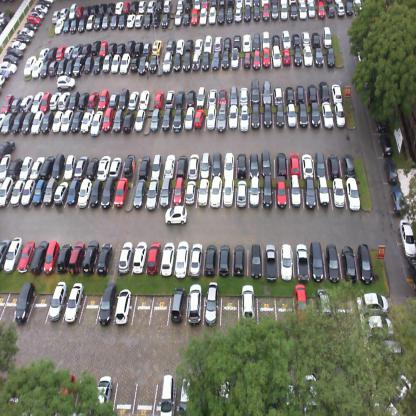car: (386, 372, 410, 416), (13, 282, 36, 322), (64, 281, 85, 323), (97, 282, 117, 326), (48, 281, 68, 322), (373, 340, 403, 367), (3, 235, 24, 273), (302, 372, 320, 416), (365, 314, 394, 341), (56, 374, 76, 413), (95, 373, 113, 415), (356, 242, 373, 285), (361, 290, 388, 317), (204, 280, 219, 327), (178, 378, 196, 416), (30, 238, 48, 275), (400, 217, 416, 258), (114, 285, 130, 326), (82, 239, 100, 275), (42, 238, 60, 274), (17, 239, 36, 273), (309, 240, 324, 283), (160, 375, 176, 415), (188, 282, 202, 326), (240, 283, 255, 324), (174, 241, 190, 279), (160, 240, 176, 278), (315, 287, 332, 322), (170, 287, 186, 324), (326, 242, 340, 283), (68, 242, 85, 275), (346, 176, 362, 211), (294, 283, 308, 323), (342, 244, 356, 284), (295, 242, 309, 282), (131, 240, 147, 275), (146, 242, 162, 276), (96, 243, 112, 277), (117, 242, 133, 275), (100, 177, 116, 210), (56, 243, 73, 274), (215, 380, 230, 415), (382, 156, 399, 186), (0, 174, 15, 208), (132, 179, 148, 210), (113, 176, 128, 209), (265, 244, 278, 282), (189, 242, 203, 277), (279, 243, 292, 280), (390, 183, 406, 213), (164, 206, 188, 226), (77, 178, 93, 208), (43, 176, 59, 206), (209, 175, 223, 209), (250, 242, 263, 278), (203, 244, 217, 276), (10, 178, 26, 206), (19, 152, 34, 181), (332, 177, 346, 208), (145, 180, 159, 211), (218, 244, 231, 277), (53, 180, 70, 205), (159, 176, 173, 206), (89, 178, 103, 208), (32, 177, 47, 205), (90, 107, 104, 137), (96, 154, 112, 180), (290, 175, 302, 209), (275, 174, 287, 208), (233, 243, 245, 277), (341, 151, 356, 178), (29, 154, 44, 181), (378, 133, 394, 158), (39, 155, 55, 180), (285, 382, 297, 415), (51, 152, 65, 180), (172, 176, 185, 206), (73, 154, 88, 180), (66, 179, 81, 205), (21, 180, 36, 206), (30, 109, 45, 135), (304, 177, 316, 209), (81, 106, 95, 133), (321, 101, 334, 130), (0, 237, 11, 271), (317, 178, 330, 206), (187, 152, 200, 180), (172, 104, 184, 134), (56, 73, 76, 91), (70, 109, 84, 134), (1, 111, 15, 136), (260, 148, 272, 177), (223, 150, 235, 179), (61, 107, 73, 136), (0, 137, 15, 160), (0, 152, 11, 183), (314, 150, 327, 176), (102, 106, 115, 132), (302, 151, 314, 179), (276, 151, 288, 179), (124, 150, 136, 178), (107, 156, 123, 177), (205, 104, 217, 132), (40, 110, 54, 134), (249, 178, 260, 208), (223, 177, 234, 207), (198, 178, 209, 208), (163, 154, 176, 179), (23, 53, 36, 78), (236, 181, 248, 208), (63, 153, 75, 180), (20, 111, 34, 134), (30, 90, 45, 111), (327, 152, 339, 178), (288, 151, 300, 177), (151, 152, 163, 178), (138, 154, 150, 180), (12, 110, 25, 134), (334, 101, 345, 129), (48, 89, 62, 111), (39, 90, 53, 112), (263, 175, 272, 209), (9, 157, 23, 178), (122, 112, 136, 133), (134, 108, 146, 132), (175, 156, 188, 178), (309, 102, 320, 128), (184, 105, 195, 131), (150, 108, 161, 134), (87, 88, 100, 110), (262, 78, 272, 106), (250, 76, 260, 104), (193, 107, 205, 130), (161, 107, 173, 130), (117, 86, 129, 109), (1, 92, 13, 115), (113, 107, 124, 132), (87, 157, 100, 178), (200, 151, 210, 178), (52, 109, 63, 133), (210, 50, 222, 72), (249, 152, 259, 178), (237, 152, 247, 178), (212, 152, 222, 178), (186, 179, 196, 205), (286, 103, 296, 129), (275, 103, 285, 129), (250, 104, 260, 130), (196, 84, 206, 110), (72, 56, 85, 76), (318, 79, 329, 102), (162, 51, 173, 74), (138, 52, 149, 75), (110, 51, 121, 74), (408, 255, 415, 291), (68, 87, 80, 108), (20, 94, 34, 112), (92, 54, 104, 75), (56, 57, 68, 78), (228, 105, 238, 130), (119, 51, 129, 76), (217, 105, 226, 132), (307, 81, 318, 103), (98, 87, 109, 109), (313, 47, 324, 69), (263, 104, 273, 128), (58, 90, 70, 110), (326, 45, 336, 69), (272, 46, 282, 70), (71, 42, 84, 60), (281, 30, 292, 51), (182, 50, 193, 71), (40, 59, 51, 80), (297, 104, 307, 127), (78, 91, 90, 110), (240, 106, 249, 131), (230, 46, 239, 71), (332, 82, 343, 102), (322, 24, 332, 46), (302, 46, 313, 66), (292, 46, 302, 68), (252, 48, 262, 70), (172, 50, 182, 72), (102, 52, 112, 74), (83, 53, 94, 73), (32, 57, 42, 79), (128, 91, 140, 109), (63, 44, 75, 62), (0, 60, 18, 72), (140, 87, 150, 108), (192, 50, 202, 71), (186, 88, 197, 107), (55, 44, 68, 60), (296, 84, 306, 104), (165, 88, 175, 108), (154, 89, 164, 109), (243, 49, 253, 69), (99, 38, 109, 58), (151, 38, 162, 56), (48, 60, 59, 78), (262, 46, 270, 70), (149, 52, 157, 76), (261, 29, 270, 50), (64, 59, 75, 76), (46, 46, 57, 63), (3, 53, 20, 64), (93, 13, 104, 30), (273, 86, 283, 104), (11, 97, 23, 112), (283, 48, 292, 68), (252, 30, 261, 50), (91, 37, 101, 55), (81, 42, 93, 57), (222, 48, 230, 70), (184, 36, 195, 52), (125, 37, 136, 53), (26, 13, 42, 24), (160, 12, 171, 28), (285, 84, 294, 103), (68, 0, 77, 19), (243, 4, 252, 23), (175, 91, 185, 108), (310, 30, 320, 47), (134, 40, 144, 57), (6, 47, 23, 57), (54, 17, 64, 34), (70, 17, 80, 34), (117, 13, 127, 30), (353, 0, 363, 17), (108, 92, 120, 106), (202, 50, 210, 71), (218, 4, 226, 25), (226, 4, 234, 25), (107, 41, 118, 56), (34, 3, 49, 14), (113, 0, 124, 15), (344, 0, 355, 15), (208, 87, 217, 105), (242, 33, 251, 51), (39, 44, 48, 62), (86, 14, 95, 32), (109, 13, 118, 31), (317, 1, 326, 19), (240, 86, 248, 106), (301, 30, 311, 46), (222, 34, 232, 50), (19, 27, 35, 37), (230, 84, 237, 106), (165, 38, 176, 52), (24, 20, 38, 31), (190, 8, 198, 27), (199, 7, 207, 26), (234, 4, 242, 23), (176, 37, 186, 52), (82, 4, 92, 19), (76, 16, 86, 31), (100, 14, 110, 29), (142, 14, 152, 29), (326, 3, 336, 18), (219, 87, 227, 105), (292, 30, 301, 46), (232, 34, 241, 50), (214, 34, 222, 52), (204, 35, 212, 53), (194, 37, 203, 53), (130, 56, 139, 72), (299, 2, 307, 20), (336, 0, 344, 18), (116, 41, 126, 55), (12, 40, 26, 50), (30, 10, 44, 20), (60, 6, 70, 20), (129, 0, 139, 14), (137, 0, 147, 14), (146, 0, 156, 14), (126, 13, 136, 27), (134, 13, 144, 27), (271, 3, 279, 20), (290, 2, 298, 19), (308, 2, 316, 19), (262, 2, 269, 21), (0, 68, 11, 80), (253, 6, 261, 22), (51, 10, 60, 24), (152, 13, 161, 27), (173, 11, 182, 25), (182, 12, 191, 26), (209, 6, 216, 24), (280, 2, 287, 20), (143, 41, 151, 56), (106, 2, 115, 15), (16, 35, 32, 42), (38, 0, 52, 8), (75, 5, 84, 17), (122, 0, 131, 12), (155, 0, 164, 12), (162, 0, 171, 12), (63, 19, 72, 31), (272, 33, 280, 46), (184, 0, 192, 12), (98, 3, 107, 13), (90, 3, 98, 14), (176, 0, 183, 11), (193, 0, 200, 10)
